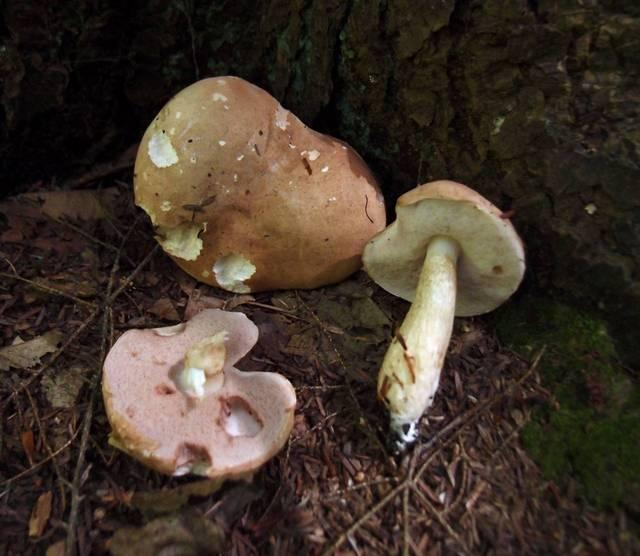poisonous_mushroom: (131, 73, 387, 294), (360, 178, 526, 451), (100, 307, 297, 482)
